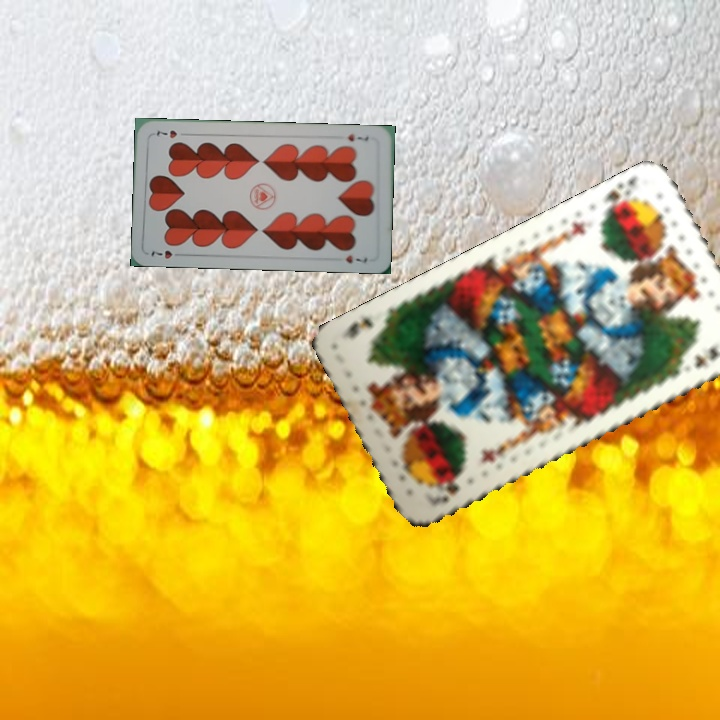H7: (147, 246, 186, 261), (344, 130, 371, 144)
SK: (599, 173, 640, 218), (432, 469, 467, 509)
